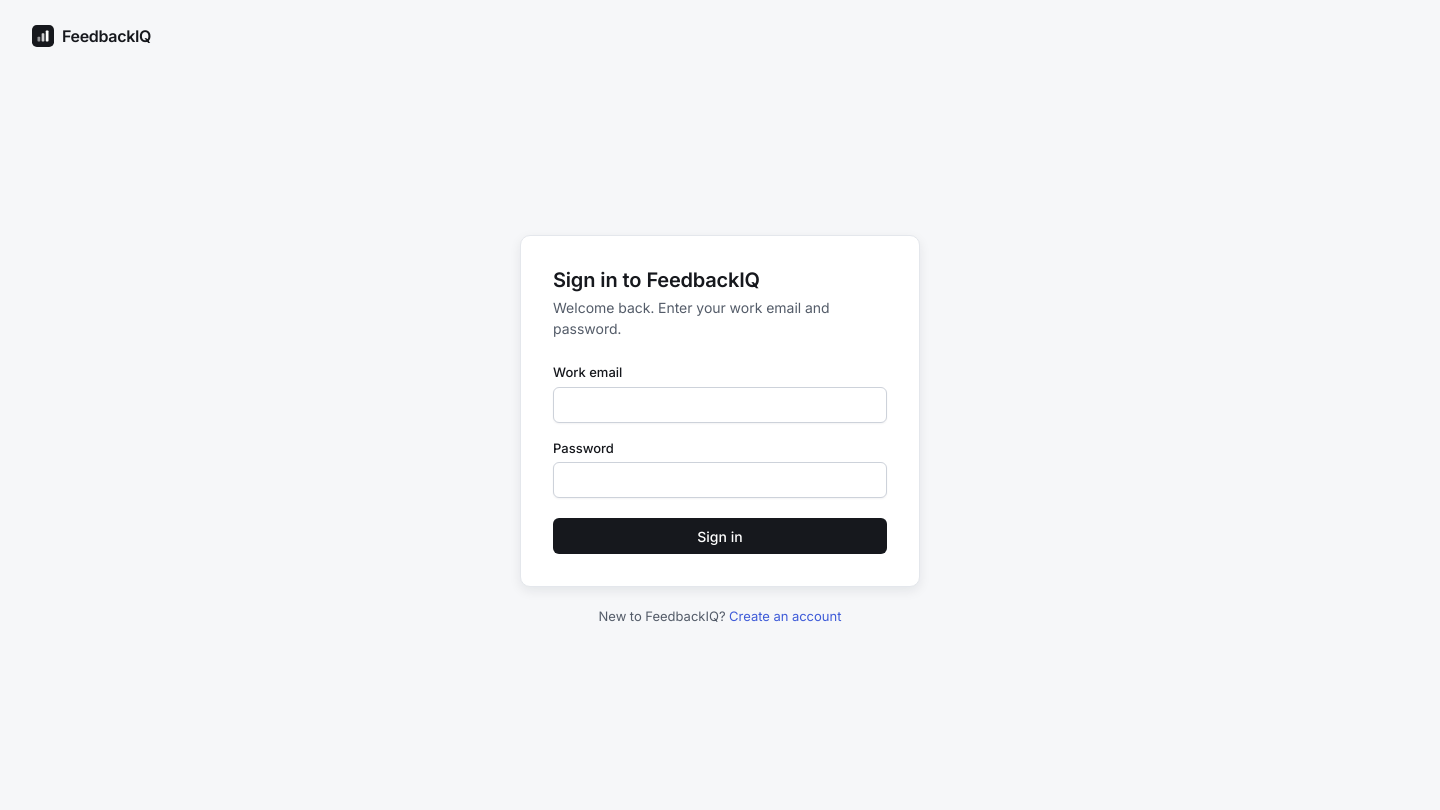
signing in › never follows a next parameter to another site
Type "ana@acme.example" into the field labelled "Work email" at (720, 405), box [553,387,887,423]
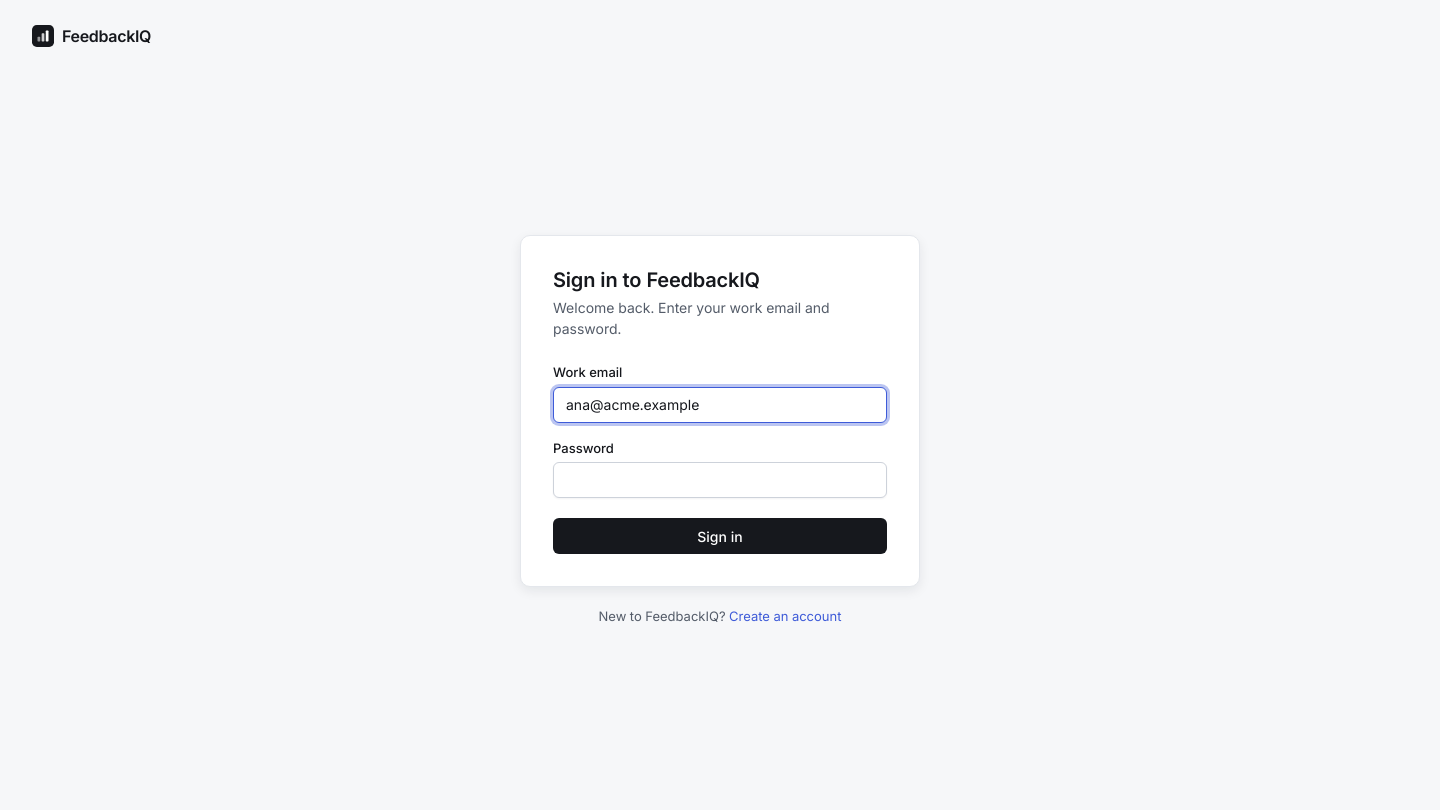
Type "correct horse battery staple" into the password field labelled "Password" at (720, 480), box [553,462,887,498]
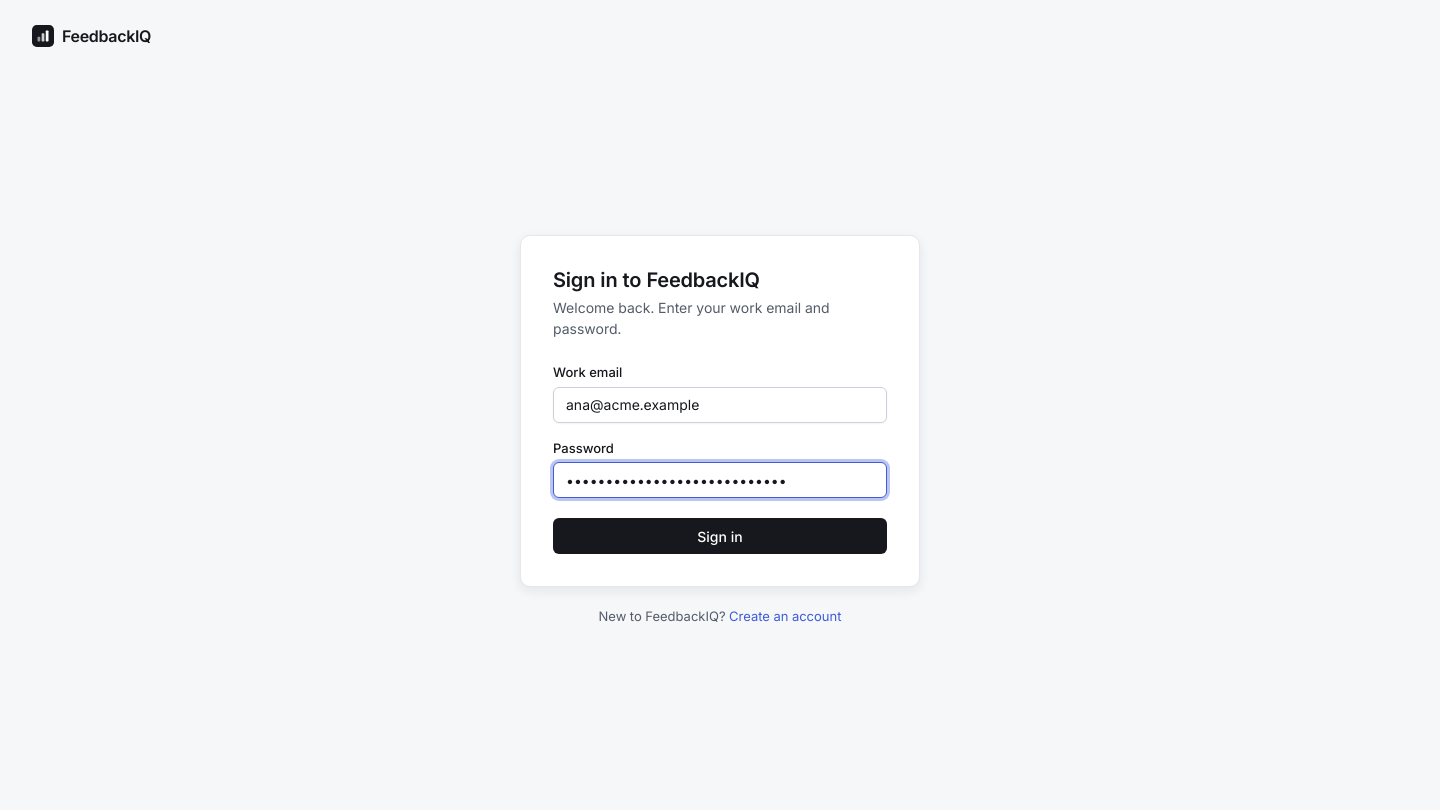
Click the button "Sign in" at (720, 536), box [553,518,887,554]
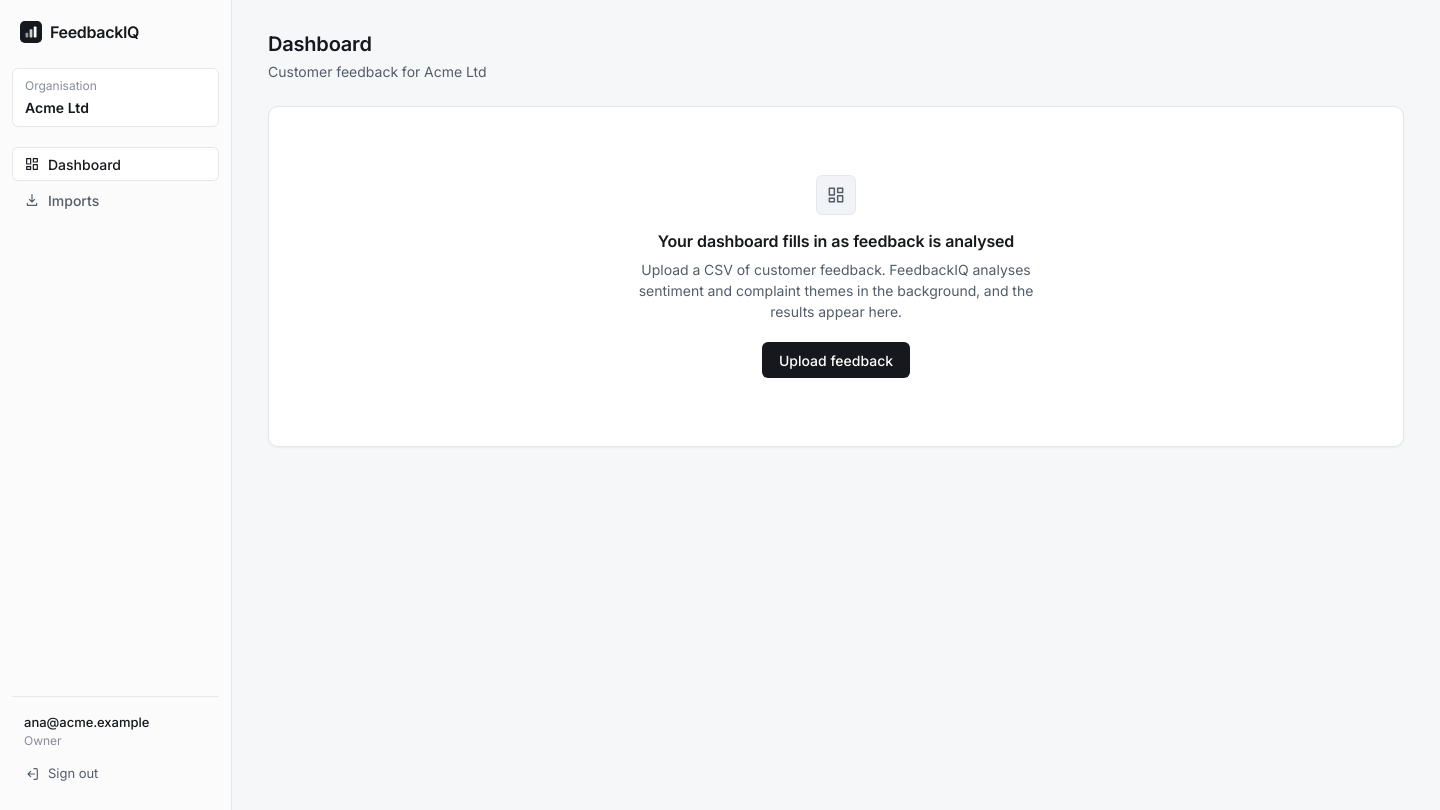
Now the heading "Dashboard" is shown, box [268,32,372,56]
